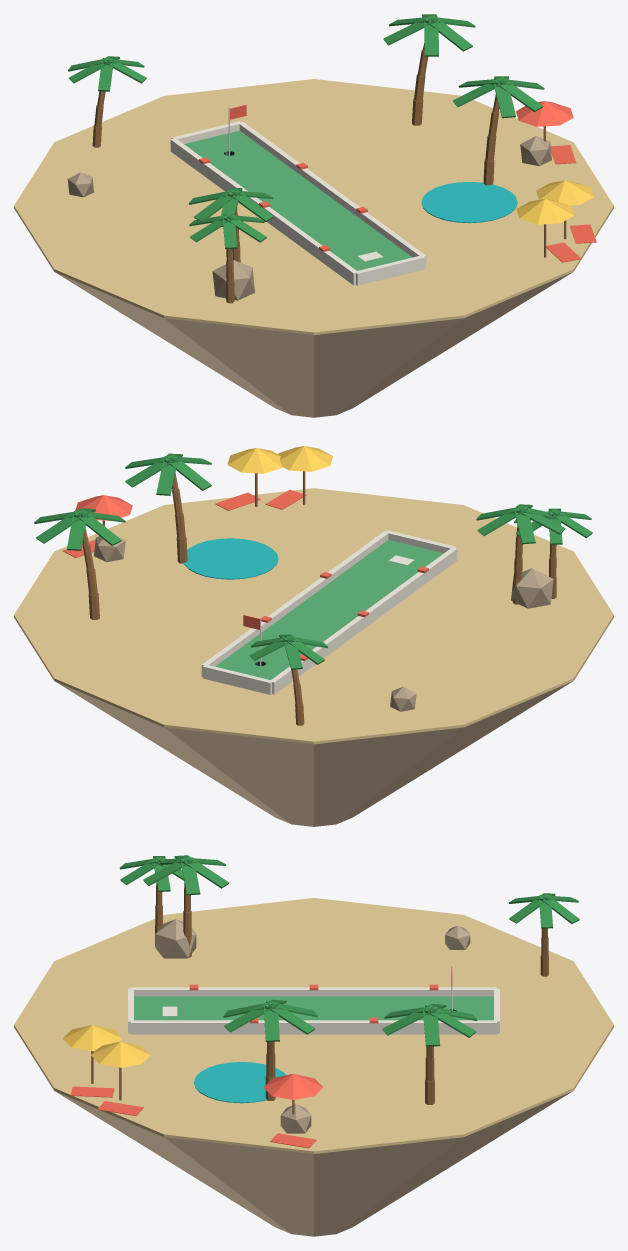
The model's file is hole1.glb.
3 renders of one model, top to bottom at view 1: azimuth 30°, elevation 25°; view 2: azimuth 150°, elevation 25°; view 3: azimuth 270°, elevation 25°, orthographic.
Parts seen in each view (by area): view 1: IslandTop, IslandBase, Turf0, Pond, Rail4, Rail2, UmbrellaP6, RockP7, Rail1, UmbrellaP5, UmbrellaP0, RockP4 (+1 smaller); view 2: IslandTop, IslandBase, Turf0, Pond, Rail4, Rail2, RockP7, UmbrellaP5, UmbrellaP6, Rail3, UmbrellaP0, Rail1 (+4 smaller); view 3: IslandTop, IslandBase, Turf0, Rail2, Rail4, Pond, RockP7, UmbrellaP0, UmbrellaP5, UmbrellaP6, RockP4, FrondP1_0 (+2 smaller).
Part boxes in pixels (bbox=[...]): IslandTop: bbox=[14, 79, 613, 335]; IslandBase: bbox=[55, 272, 572, 417]; Turf0: bbox=[184, 130, 412, 270]; Pond: bbox=[421, 182, 517, 223]; Rail4: bbox=[170, 138, 356, 285]; Rail2: bbox=[238, 122, 426, 267]; UmbrellaP6: bbox=[516, 199, 573, 224]; RockP7: bbox=[212, 260, 255, 300]; Rail1: bbox=[355, 255, 425, 285]; UmbrellaP5: bbox=[536, 180, 593, 205]; UmbrellaP0: bbox=[516, 101, 573, 126]; RockP4: bbox=[520, 136, 551, 166]; IslandTop: bbox=[14, 488, 613, 744]; IslandBase: bbox=[55, 681, 572, 826]; Turf0: bbox=[215, 540, 443, 680]; Pond: bbox=[183, 538, 278, 579]; Rail4: bbox=[270, 547, 457, 694]; Rail2: bbox=[201, 531, 389, 676]; RockP7: bbox=[511, 568, 553, 608]; UmbrellaP5: bbox=[227, 448, 282, 473]; UmbrellaP6: bbox=[278, 446, 332, 471]; Rail3: bbox=[202, 664, 272, 694]; UmbrellaP0: bbox=[75, 495, 132, 520]; Rail1: bbox=[386, 530, 456, 553]; IslandTop: bbox=[14, 898, 613, 1153]; IslandBase: bbox=[55, 1091, 572, 1236]; Turf0: bbox=[134, 996, 493, 1020]; Rail2: bbox=[131, 1020, 496, 1034]; Rail4: bbox=[131, 987, 496, 996]; Pond: bbox=[194, 1062, 286, 1103]; RockP7: bbox=[155, 919, 196, 958]; UmbrellaP0: bbox=[263, 1073, 323, 1099]; UmbrellaP5: bbox=[91, 1041, 150, 1067]; UmbrellaP6: bbox=[62, 1025, 122, 1051]; RockP4: bbox=[280, 1104, 311, 1133]; FrondP1_0: bbox=[422, 1007, 440, 1046].
Bounding box in the file's own units: 10 × 5.43 × 10.
